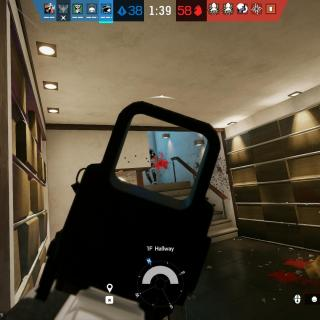Character: (145, 146, 158, 186)
